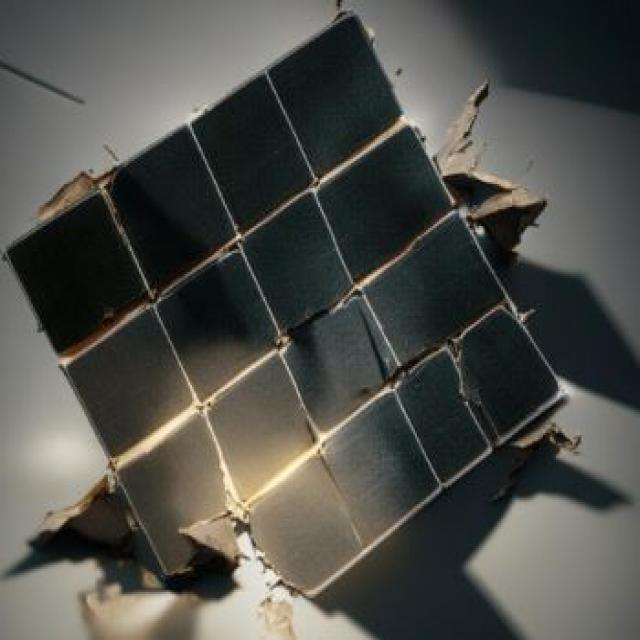faulty: (0, 11, 570, 640)
